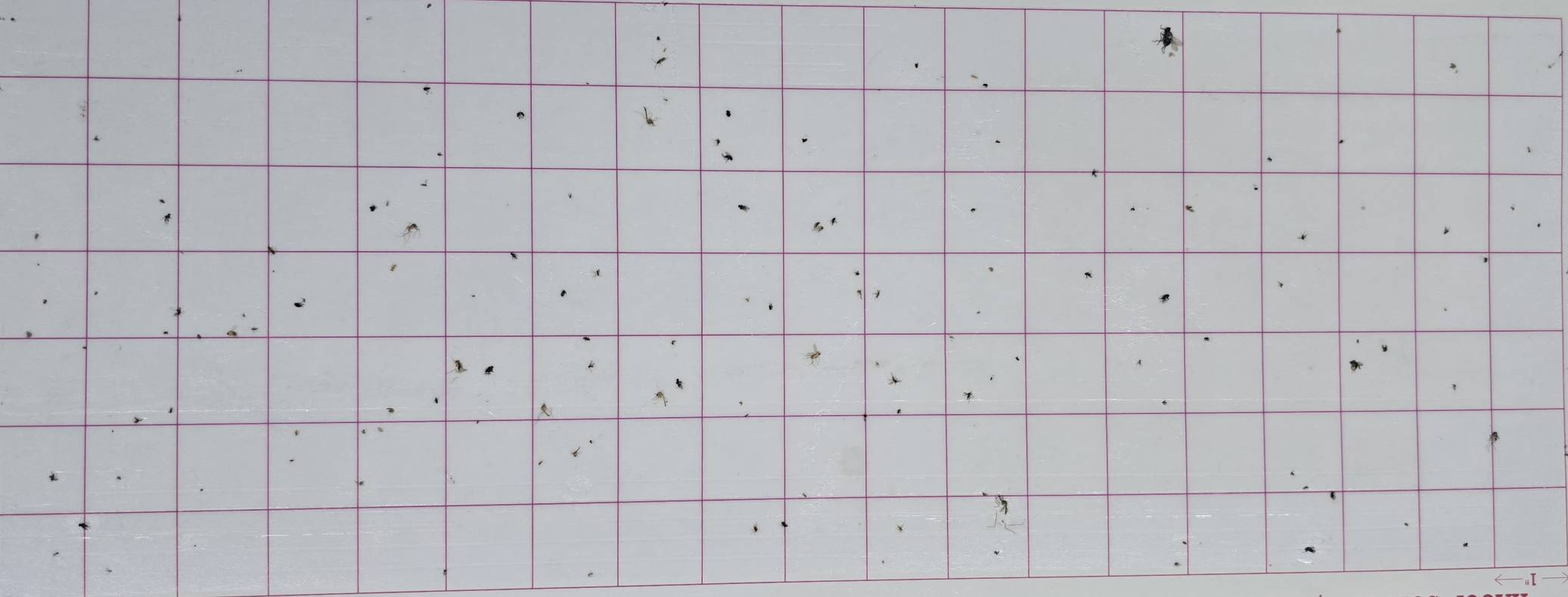fly: (1153, 27, 1182, 58)
test: (986, 493, 1021, 534), (652, 36, 671, 67), (571, 433, 595, 454), (1331, 128, 1352, 151), (1167, 554, 1191, 574), (402, 222, 421, 245), (448, 358, 467, 381), (1286, 459, 1305, 482), (1543, 50, 1563, 71), (640, 105, 659, 127), (804, 343, 822, 366), (961, 202, 985, 219), (368, 198, 391, 214), (1458, 535, 1475, 552), (85, 281, 102, 298), (1010, 351, 1027, 368), (995, 496, 1009, 516), (653, 389, 668, 407), (1125, 198, 1142, 213), (911, 57, 925, 74), (77, 100, 88, 120), (539, 402, 552, 418), (110, 472, 127, 484), (669, 333, 679, 353), (888, 372, 902, 386), (49, 544, 64, 557), (356, 425, 371, 438), (711, 134, 728, 145), (560, 191, 577, 202), (431, 147, 444, 161), (849, 266, 864, 278), (1489, 429, 1500, 445), (1403, 518, 1413, 535), (1505, 202, 1522, 212), (38, 294, 51, 307), (1349, 359, 1363, 371), (1176, 533, 1191, 544), (157, 195, 172, 206), (100, 567, 115, 578), (439, 565, 450, 580), (159, 325, 170, 340), (981, 76, 989, 96), (811, 221, 824, 233), (1159, 395, 1171, 408), (582, 567, 596, 578), (163, 406, 178, 416), (429, 393, 442, 404), (193, 331, 204, 344), (48, 471, 60, 482), (171, 306, 183, 317), (722, 151, 734, 162), (77, 521, 90, 531), (293, 298, 306, 308), (484, 364, 495, 375), (1449, 62, 1459, 74), (962, 390, 974, 400), (570, 446, 580, 458), (163, 211, 172, 224), (993, 136, 1006, 145), (1160, 293, 1171, 303), (674, 378, 684, 389), (248, 323, 259, 333), (738, 203, 750, 212), (1303, 545, 1316, 553), (534, 458, 547, 466), (592, 268, 601, 279), (659, 0, 670, 9), (226, 329, 238, 337), (1298, 232, 1308, 241), (422, 85, 432, 94), (268, 245, 277, 255), (751, 523, 760, 533), (799, 491, 809, 500), (1534, 217, 1541, 229), (516, 110, 525, 119), (985, 373, 994, 382), (33, 231, 41, 241), (1329, 491, 1337, 501), (873, 289, 881, 299), (133, 416, 143, 424), (582, 81, 592, 89), (945, 332, 955, 340), (1442, 226, 1450, 235), (1185, 205, 1194, 213), (25, 330, 34, 338), (509, 252, 518, 260), (559, 289, 567, 298), (780, 519, 788, 528), (587, 361, 595, 370), (369, 203, 377, 212), (387, 406, 396, 414), (894, 406, 900, 418), (662, 96, 671, 104), (975, 308, 984, 316), (179, 248, 188, 256), (191, 542, 200, 550), (470, 291, 477, 301), (1084, 271, 1092, 279), (1091, 169, 1099, 177), (896, 524, 904, 532), (420, 179, 428, 187), (830, 217, 838, 225), (356, 479, 365, 486), (390, 263, 397, 272), (426, 0, 433, 9), (992, 550, 1001, 557), (1301, 485, 1310, 492), (856, 289, 862, 299), (1381, 344, 1388, 352), (1527, 145, 1534, 153), (93, 135, 101, 142), (767, 303, 774, 311), (725, 109, 732, 117), (743, 297, 751, 304), (1352, 338, 1360, 345), (742, 412, 751, 418), (269, 268, 278, 274), (801, 136, 808, 143), (293, 429, 300, 436), (874, 359, 881, 366), (110, 427, 117, 434), (1136, 358, 1142, 366), (583, 336, 591, 342), (36, 264, 42, 272), (376, 427, 384, 433), (737, 401, 746, 406), (1336, 27, 1342, 34), (1266, 156, 1273, 162), (1278, 281, 1284, 288), (1452, 383, 1458, 390), (1203, 336, 1210, 342), (988, 266, 995, 272), (288, 456, 294, 463), (198, 486, 206, 491), (474, 419, 482, 424), (878, 561, 888, 565), (1483, 257, 1489, 263), (1253, 184, 1259, 190), (177, 15, 182, 22), (82, 345, 89, 350), (9, 17, 16, 22), (239, 312, 246, 317)
